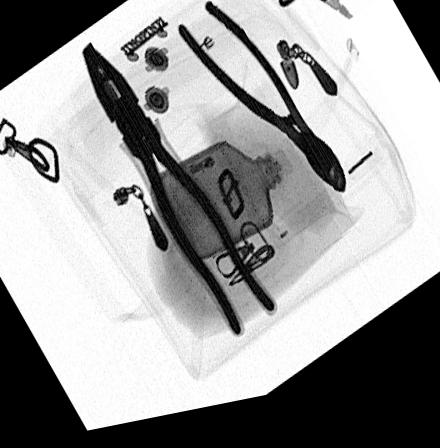Pliers: (80, 43, 277, 346), (176, 8, 347, 207)
